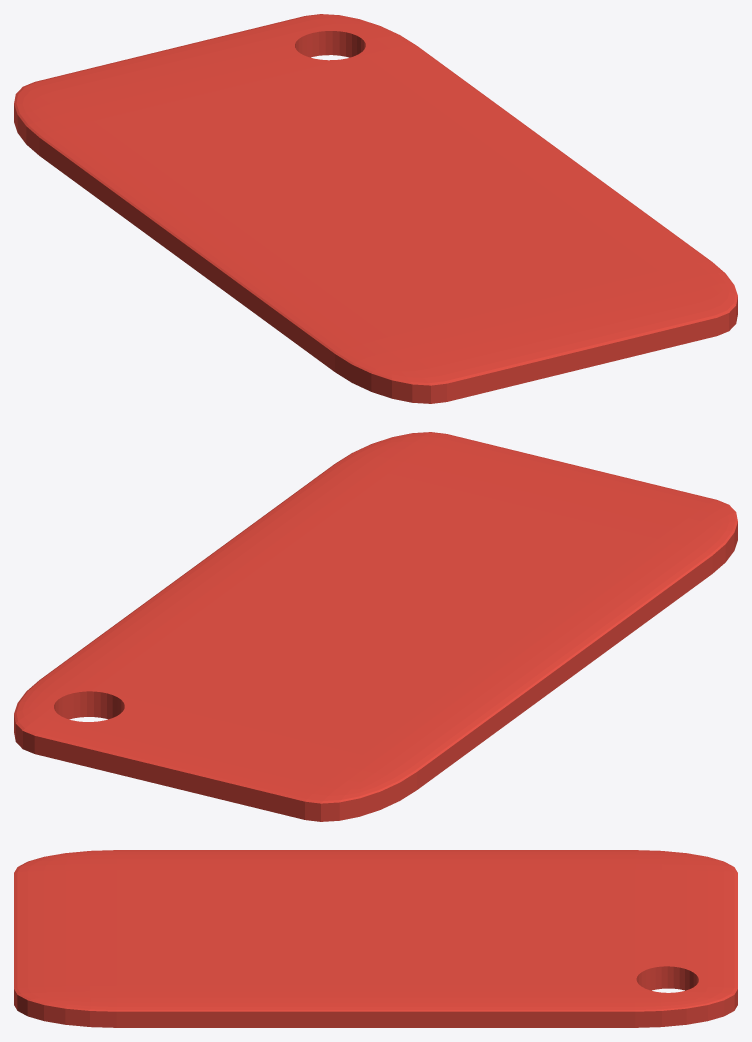
Rendered from NewKeyCard.fbx.
The picture shows the model from 3 angles, top to bottom: view 1: azimuth 30°, elevation 25°; view 2: azimuth 150°, elevation 25°; view 3: azimuth 270°, elevation 25°; orthographic projection. The views are drawn at different scales.
Parts seen in each view (by area): view 1: Cube; view 2: Cube; view 3: Cube.
Boxes of the visible parts, <box> form: Cube: <box>14,14,737,403</box>; Cube: <box>14,432,737,821</box>; Cube: <box>14,850,737,1027</box>.
Size of the model in its own units: 200 by 12.98 by 379.
